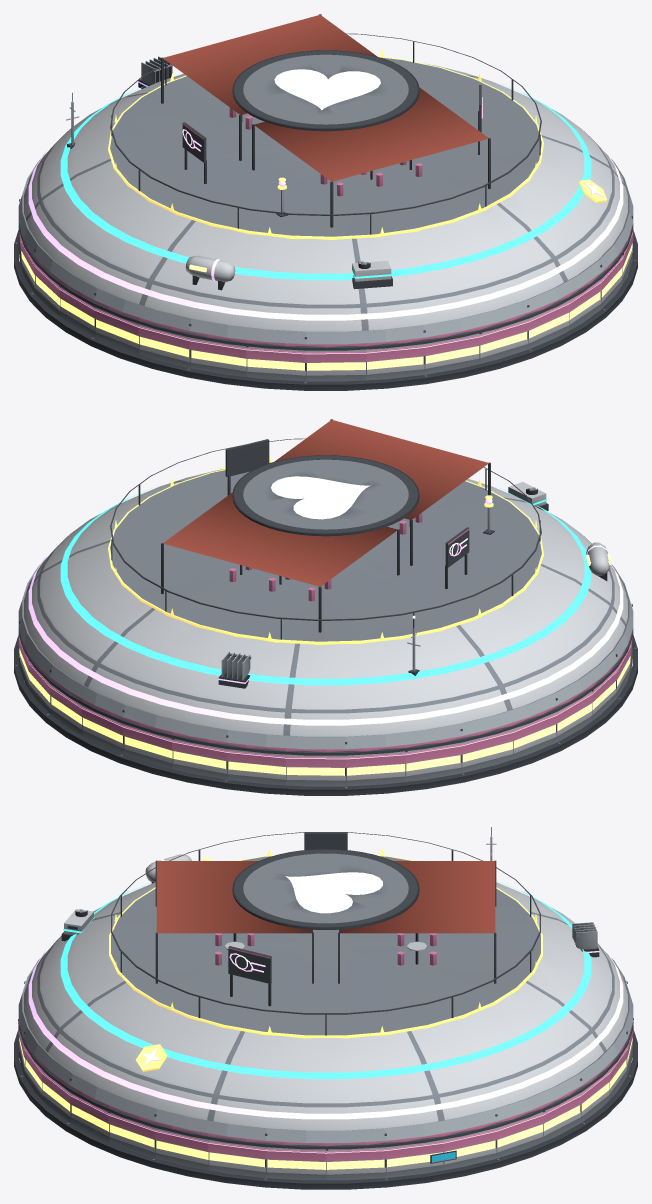
Rendered from cantina_xl.glb.
The picture shows the model from 3 angles, top to bottom: view 1: azimuth 30°, elevation 25°; view 2: azimuth 150°, elevation 25°; view 3: azimuth 270°, elevation 25°; orthographic projection.
Parts seen in each view (by area): view 1: Roof, Base, L3, L5, Wall_21, Wall_20, Wall_22, Wall_19, L4, Wall_23, Wall_18, Wall_24 (+12 smaller); view 2: Roof, Base, L3, L5, Wall_10, Wall_11, Wall_09, Wall_12, Wall_08, L4, Wall_13, Wall_07 (+13 smaller); view 3: Roof, Base, L3, L5, Wall_00, Wall_31, Wall_30, Wall_01, Wall_29, Wall_02, Wall_28, Wall_03 (+18 smaller).
Part boxes in pixels (x1=…): Roof: x1=18, y1=14, x2=633, y2=350; Base: x1=14, y1=230, x2=637, y2=390; L3: x1=60, y1=83, x2=591, y2=289; L5: x1=108, y1=50, x2=607, y2=239; Wall_21: x1=306, y1=349, x2=366, y2=381; Wall_20: x1=246, y1=345, x2=305, y2=381; Wall_22: x1=366, y1=344, x2=424, y2=380; Wall_19: x1=189, y1=337, x2=246, y2=376; L4: x1=138, y1=56, x2=235, y2=290; Wall_23: x1=424, y1=333, x2=479, y2=374; Wall_18: x1=138, y1=324, x2=190, y2=368; Wall_24: x1=479, y1=319, x2=528, y2=363; Roof: x1=18, y1=419, x2=633, y2=755; Base: x1=14, y1=635, x2=637, y2=795; L3: x1=60, y1=482, x2=591, y2=685; L5: x1=108, y1=455, x2=543, y2=644; Wall_10: x1=285, y1=754, x2=345, y2=786; Wall_11: x1=346, y1=751, x2=405, y2=786; Wall_09: x1=227, y1=749, x2=285, y2=785; Wall_12: x1=405, y1=742, x2=462, y2=781; Wall_08: x1=172, y1=737, x2=227, y2=779; L4: x1=218, y1=542, x2=611, y2=688; Wall_13: x1=461, y1=729, x2=513, y2=773; Wall_07: x1=123, y1=724, x2=172, y2=768; Roof: x1=18, y1=832, x2=633, y2=1149; Base: x1=14, y1=1030, x2=637, y2=1189; L3: x1=60, y1=881, x2=591, y2=1079; L5: x1=109, y1=848, x2=542, y2=1071; Wall_00: x1=326, y1=1147, x2=385, y2=1180; Wall_31: x1=266, y1=1147, x2=325, y2=1180; Wall_30: x1=208, y1=1139, x2=265, y2=1177; Wall_01: x1=386, y1=1139, x2=443, y2=1177; Wall_29: x1=155, y1=1128, x2=208, y2=1170; Wall_02: x1=443, y1=1128, x2=496, y2=1170; Wall_28: x1=108, y1=1111, x2=155, y2=1158; Wall_03: x1=496, y1=1111, x2=543, y2=1158.
Size of the model in its own units: 23.15 by 6.94 by 23.15.
